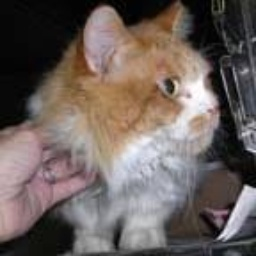cat: (24, 3, 223, 256)
